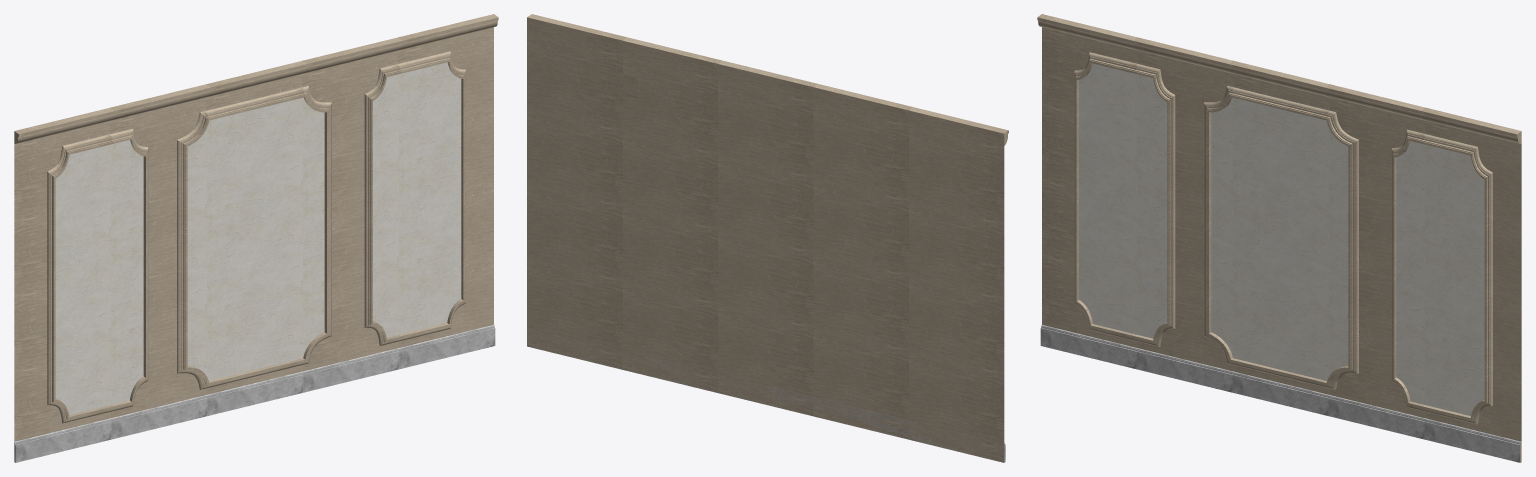
Rendered from wall1.glb.
The picture shows the model from 3 angles, left to right: view 1: azimuth 30°, elevation 25°; view 2: azimuth 150°, elevation 25°; view 3: azimuth 330°, elevation 25°; orthographic projection.
Parts seen in each view (by area): view 1: group_0.015, group_0.010, group_0.014, group_0.017, group_0.012, group_0.001, group_0.004, group_0.003, group_0; view 2: group_0.015, group_0.001, group_0.003, group_0.013, group_0, group_0.004, group_0.016; view 3: group_0.015, group_0.010, group_0.014, group_0.017, group_0.012, group_0.001, group_0.004, group_0.003, group_0.
Part boxes in pixels (box(x1,y1,x2,y2)): group_0.015: box(14, 27, 493, 441); group_0.010: box(187, 97, 324, 380); group_0.014: box(55, 140, 143, 414); group_0.017: box(373, 62, 461, 337); group_0.012: box(14, 325, 495, 462); group_0.001: box(177, 86, 331, 389); group_0.004: box(14, 14, 498, 143); group_0.003: box(47, 128, 148, 423); group_0: box(364, 51, 465, 345); group_0.015: box(527, 17, 1004, 442); group_0.001: box(688, 89, 842, 390); group_0.003: box(871, 131, 971, 424); group_0.013: box(527, 326, 1004, 462); group_0: box(555, 55, 655, 347); group_0.004: box(527, 14, 1008, 145); group_0.016: box(563, 65, 649, 337); group_0.015: box(1042, 27, 1521, 441); group_0.010: box(1211, 97, 1348, 380); group_0.014: box(1079, 63, 1167, 338); group_0.017: box(1396, 141, 1484, 415); group_0.012: box(1040, 325, 1521, 462); group_0.001: box(1204, 86, 1358, 389); group_0.004: box(1037, 14, 1521, 143); group_0.003: box(1074, 52, 1175, 346); group_0: box(1392, 129, 1492, 424).
Size of the model in its own units: 180 by 119 by 3.
Materials: 3 (3 with a texture image).
